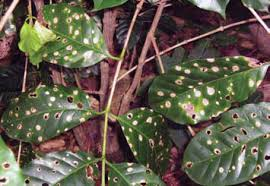ojo de gallo: (156, 62, 260, 139), (16, 76, 90, 138), (44, 4, 105, 68)
